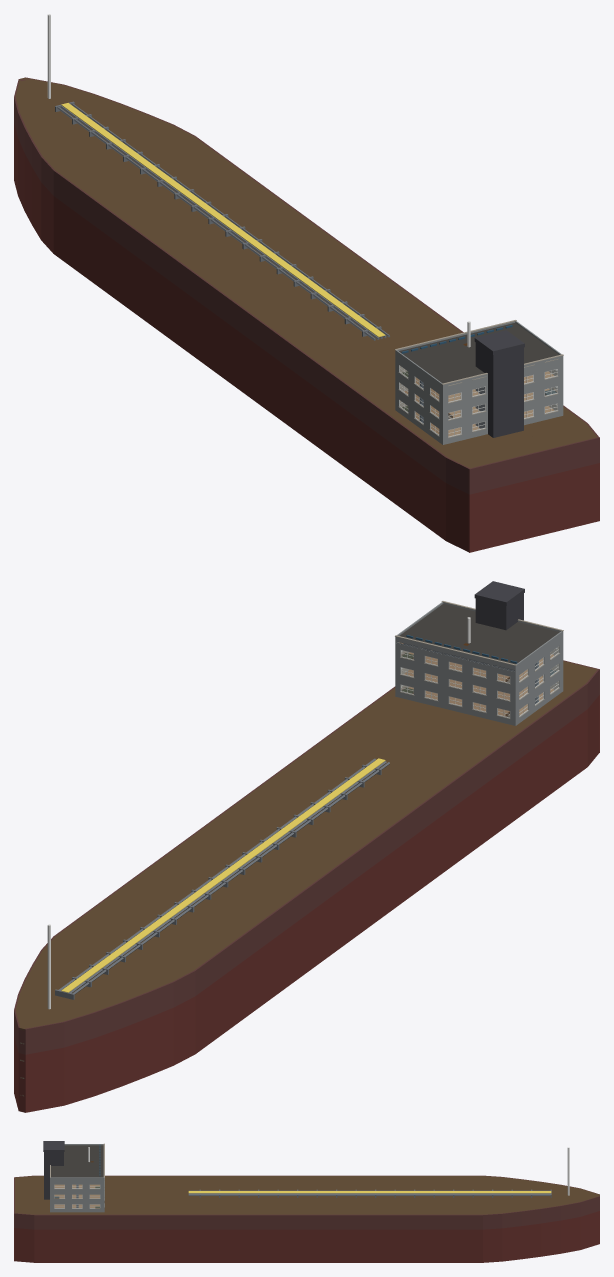
File: tanker.glb
3 renders of one model, top to bottom at view 1: azimuth 30°, elevation 25°; view 2: azimuth 150°, elevation 25°; view 3: azimuth 270°, elevation 25°, orthographic. The views are drawn at different scales.
Visible parts, largest first — view 1: LOD0; view 2: LOD0; view 3: LOD0.
Boxes of the visible parts, <box> form: LOD0: <box>14,14,599,552</box>; LOD0: <box>14,581,599,1112</box>; LOD0: <box>14,1141,599,1262</box>.
Size of what is drawn, in the model's own units: 24 by 27.6 by 150.
